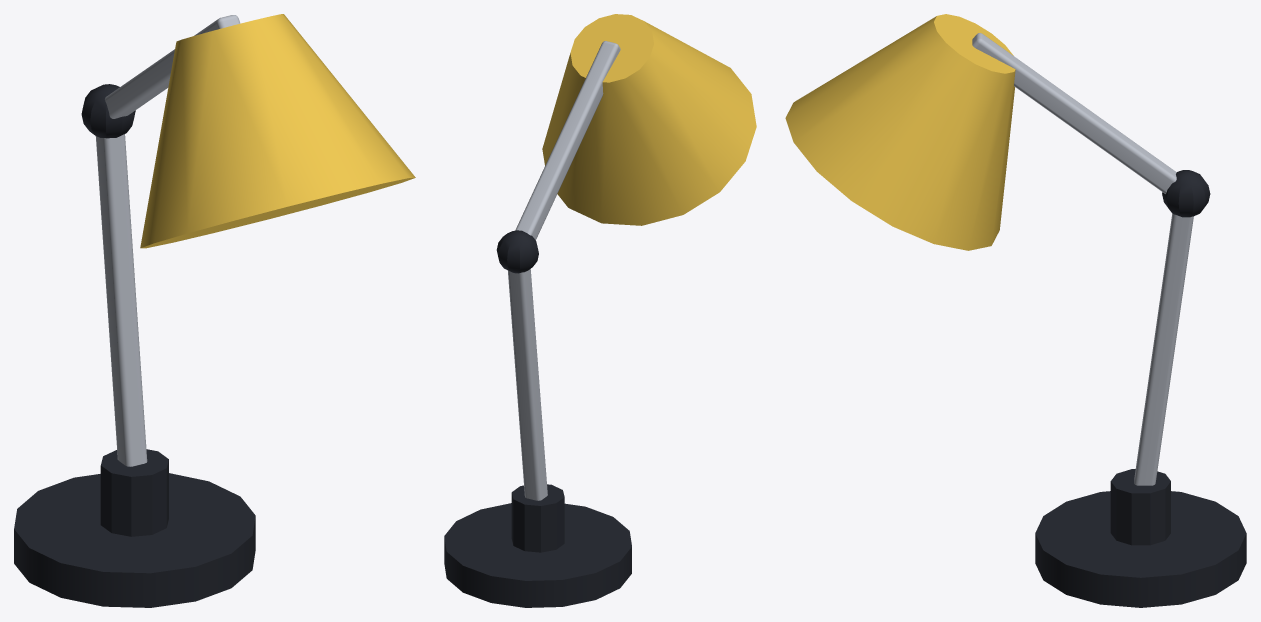
Rendered from DeskLamp.fbx.
3 views of the same model, side by side, from view 1: azimuth 30°, elevation 25°; view 2: azimuth 150°, elevation 25°; view 3: azimuth 270°, elevation 25° (orthographic). The views are drawn at different scales.
Visible parts, largest first — view 1: DeskLamp; view 2: DeskLamp; view 3: DeskLamp.
Part boxes in pixels (bbox=[...]): DeskLamp: bbox=[14, 14, 415, 607]; DeskLamp: bbox=[444, 14, 756, 607]; DeskLamp: bbox=[785, 14, 1246, 607].
Size of the model in its own units: 0.0164 by 0.0396 by 0.0306.
